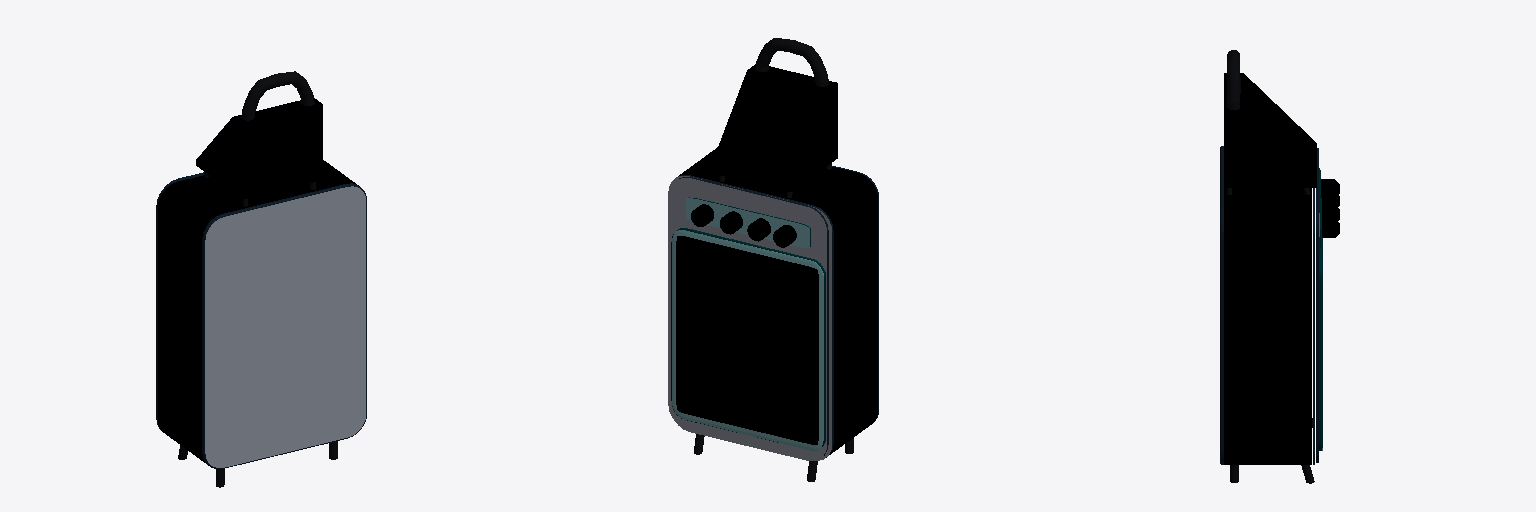
3 views of the same model, side by side, from view 1: azimuth 30°, elevation 25°; view 2: azimuth 150°, elevation 25°; view 3: azimuth 270°, elevation 25° (orthographic).
Parts seen in each view (by area): view 1: pCylinder14; view 2: pCylinder14; view 3: pCylinder14.
Part boxes in pixels (x1,y1,x2,y2): pCylinder14: (156, 71, 366, 487); pCylinder14: (668, 38, 878, 481); pCylinder14: (1220, 50, 1339, 483).
Bounding box in the file's own units: 2.03 × 4.71 × 1.28.
6 materials, 3 textured.